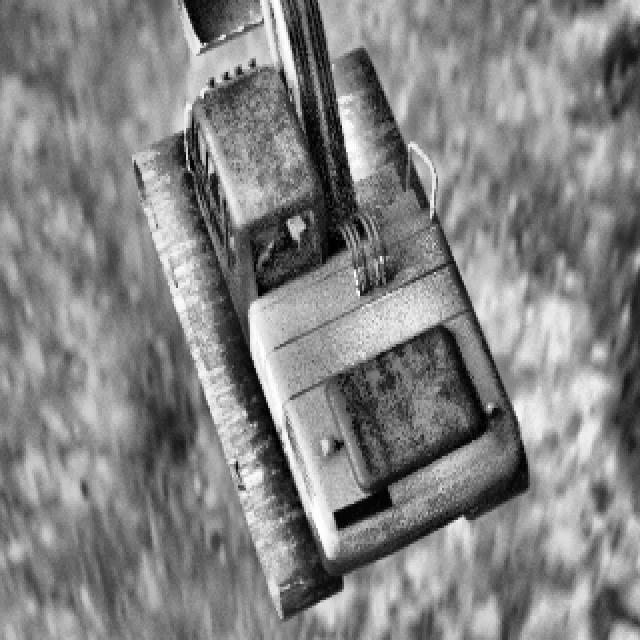excavator: (130, 0, 528, 621)
